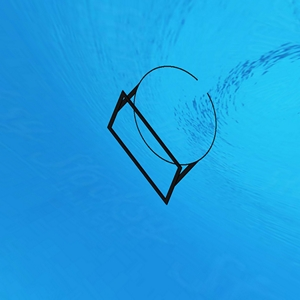circle: (107, 64, 225, 207)
